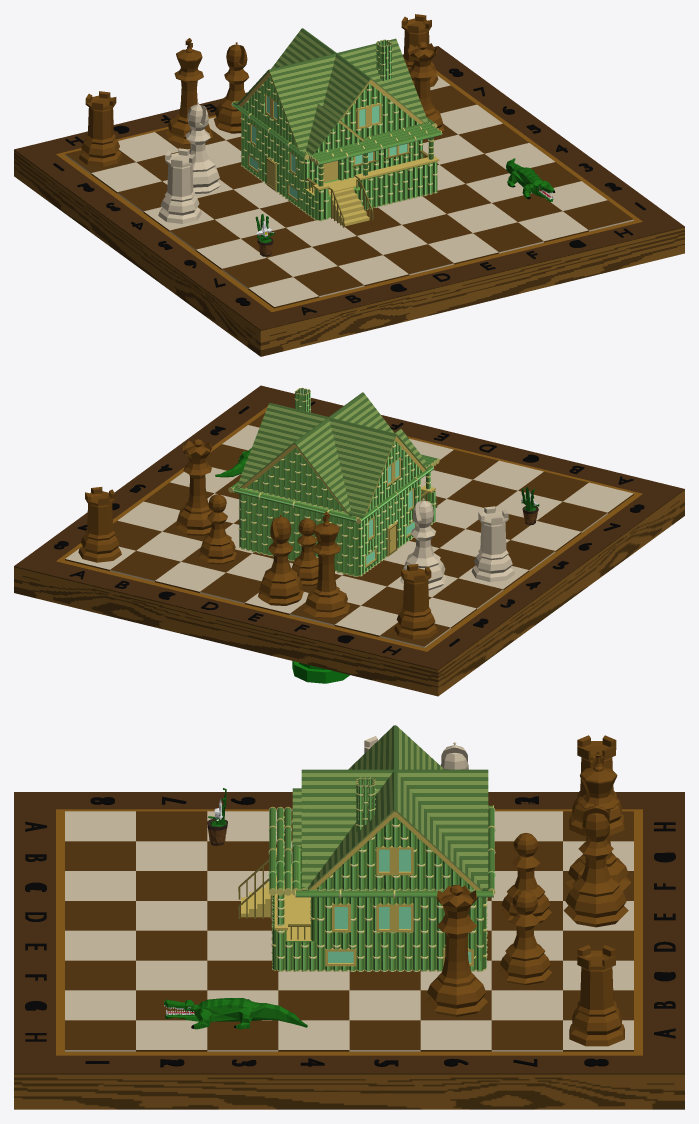
3 views of the same model, one above another, from view 1: azimuth 30°, elevation 25°; view 2: azimuth 150°, elevation 25°; view 3: azimuth 270°, elevation 25° (orthographic). The views are drawn at different scales.
Parts seen in each view (by area): view 1: Cube.002, Cube.1327, ANIMAL_COCODRILO, OBJRANDOM_MONJA BLANCA; view 2: Cube.002, Cube.1327, UNDERGROUND_PIPES, OBJRANDOM_MONJA BLANCA; view 3: Cube.002, Cube.1327, ANIMAL_COCODRILO, OBJRANDOM_MONJA BLANCA.
Boxes of the visible parts, x1,y1,x2,y2 form: Cube.002: (14,14,684,356); Cube.1327: (231,28,442,227); ANIMAL_COCODRILO: (506,158,555,202); OBJRANDOM_MONJA BLANCA: (255,214,274,256); Cube.002: (14,385,684,696); Cube.1327: (228,387,439,576); UNDERGROUND_PIPES: (292,661,349,683); OBJRANDOM_MONJA BLANCA: (521,487,539,525); Cube.002: (14,735,684,1109); Cube.1327: (238,725,495,971); ANIMAL_COCODRILO: (164,998,307,1029); OBJRANDOM_MONJA BLANCA: (207,788,227,845).
Bounding box in the file's own units: 3981 × 2076 × 4012.
Materials: 25 (3 with a texture image).
